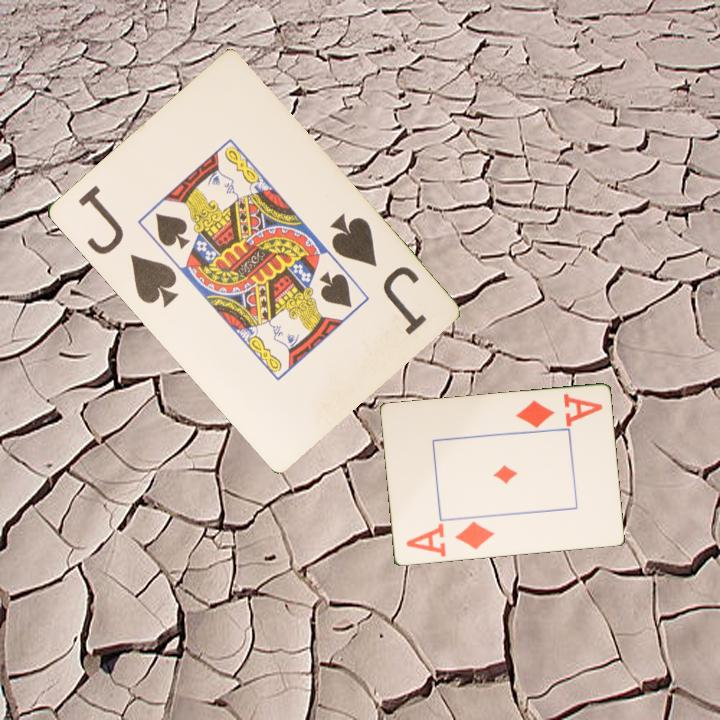Ad: (402, 518, 497, 560), (512, 390, 605, 431)
Js: (74, 181, 182, 311), (325, 209, 430, 338)
